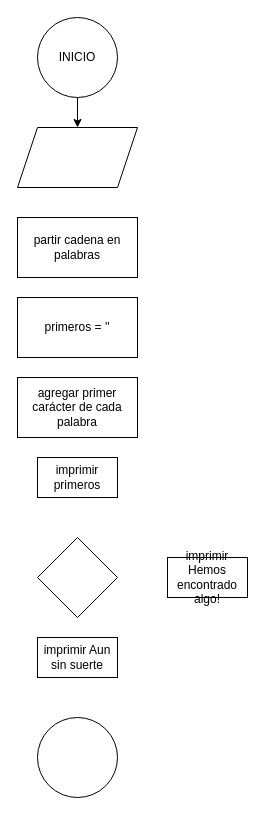
Image size: 265x815. Some labels were removed from this diagram. The shapes that lost their labels are listed below. From the top down, each one's centre as x and y in pixels, then its label:
[77,157]: INPUT cadena
[77,577]: primeros[0] == primeros[-1]
[77,757]: FIN
